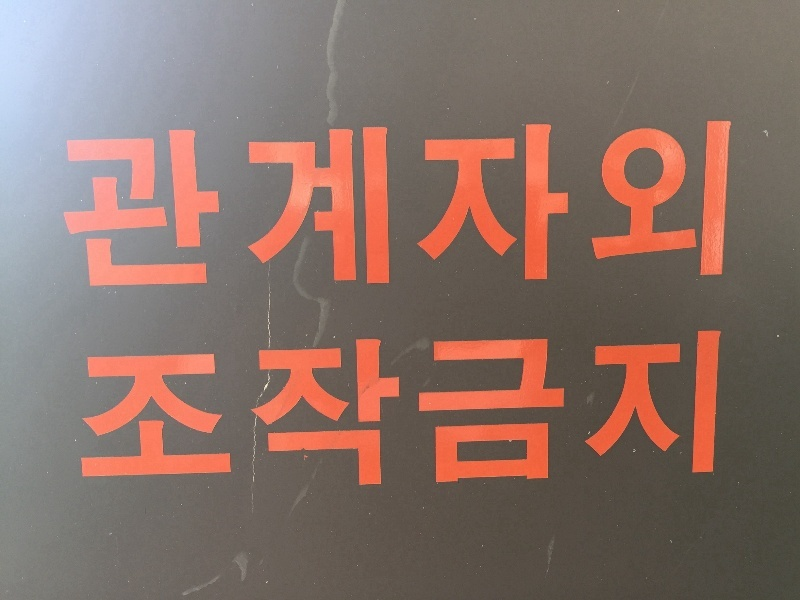text: (65, 115, 80, 293), (81, 115, 96, 293), (97, 115, 112, 293), (113, 115, 128, 293), (129, 115, 144, 293), (145, 115, 160, 293), (161, 115, 176, 293), (177, 115, 192, 293), (193, 115, 208, 293), (209, 115, 224, 293), (225, 115, 240, 293), (241, 115, 256, 293), (257, 115, 272, 293), (273, 115, 288, 293), (289, 115, 304, 293), (305, 115, 320, 293), (321, 115, 336, 293), (337, 115, 352, 293), (353, 115, 368, 293), (369, 115, 384, 293), (385, 115, 400, 293), (401, 115, 416, 293), (417, 115, 432, 293), (433, 115, 448, 293), (449, 115, 464, 293), (465, 115, 480, 293), (481, 115, 496, 293), (497, 115, 512, 293), (513, 115, 528, 293), (529, 115, 544, 293), (545, 115, 560, 293), (561, 115, 576, 293), (577, 115, 592, 293), (593, 115, 608, 293), (609, 115, 624, 293), (625, 115, 640, 293), (641, 115, 656, 293), (657, 115, 672, 293), (673, 115, 688, 293), (689, 115, 704, 293), (705, 115, 720, 293), (721, 115, 736, 293), (97, 326, 112, 498), (113, 326, 128, 498), (129, 326, 144, 498), (145, 326, 160, 498), (161, 326, 176, 498), (177, 326, 192, 498), (193, 326, 208, 498), (209, 326, 224, 498), (225, 326, 240, 498), (241, 326, 256, 498), (257, 326, 272, 498), (273, 326, 288, 498), (289, 326, 304, 498), (305, 326, 320, 498), (321, 326, 336, 498), (337, 326, 352, 498), (353, 326, 368, 498), (369, 326, 384, 498), (385, 326, 400, 498), (401, 326, 416, 498), (417, 326, 432, 498), (433, 326, 448, 498), (449, 326, 464, 498), (465, 326, 480, 498), (481, 326, 496, 498), (497, 326, 512, 498), (513, 326, 528, 498), (529, 326, 544, 498), (545, 326, 560, 498), (561, 326, 576, 498), (577, 326, 592, 498), (593, 326, 608, 498), (609, 326, 624, 498), (625, 326, 640, 498), (641, 326, 656, 498), (657, 326, 672, 498), (673, 326, 688, 498), (689, 326, 704, 498), (705, 326, 720, 498), (85, 326, 96, 498), (55, 115, 64, 293), (721, 326, 724, 498)
